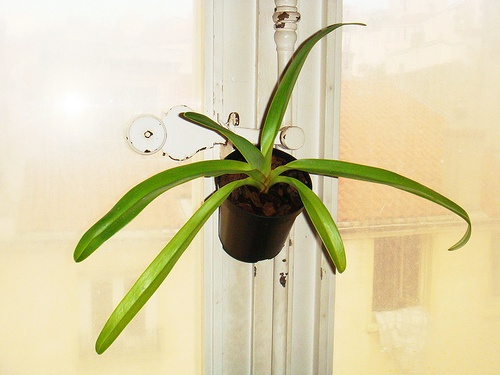flowerpot: (215, 146, 312, 264)
